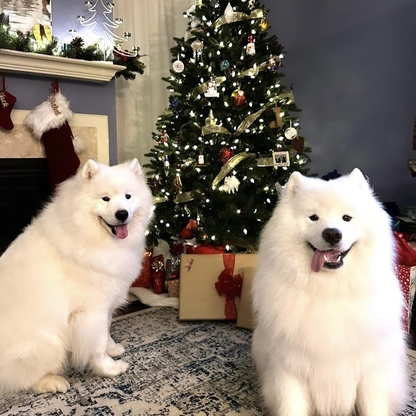samoyed: (245, 163, 416, 416), (1, 149, 157, 396)
